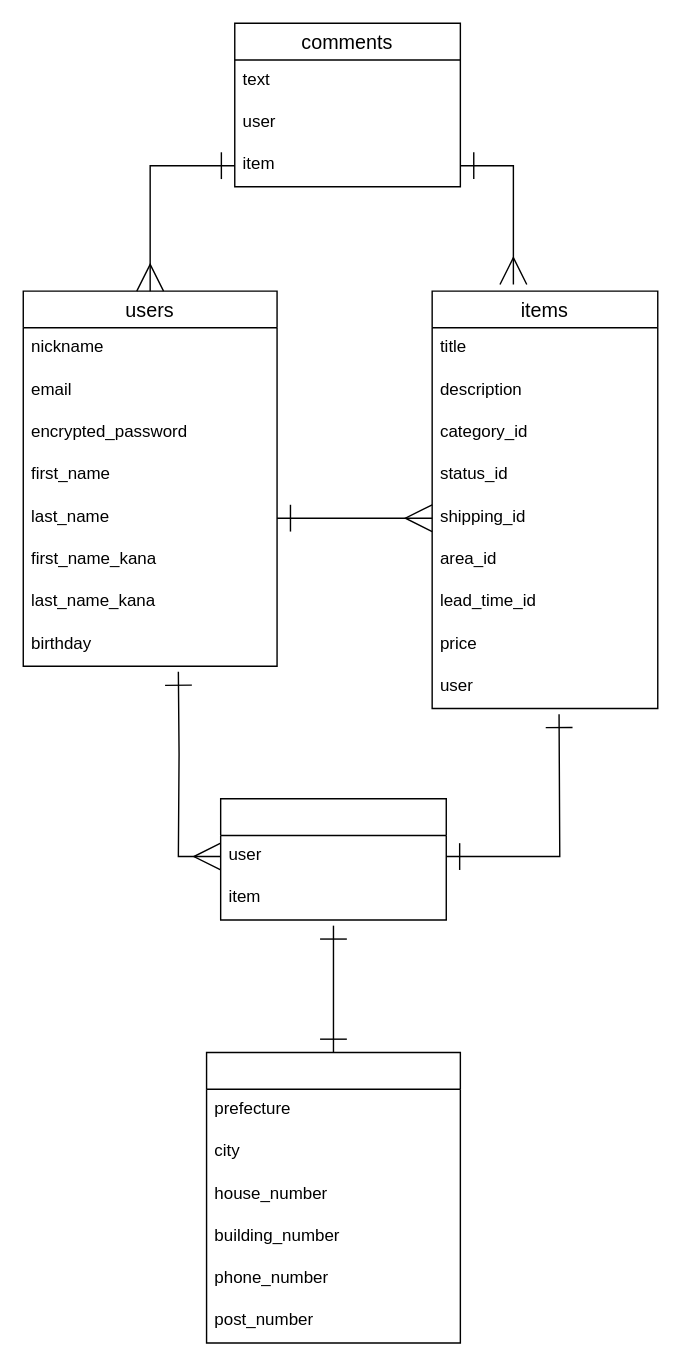
Some shapes in this 681 by 1366 pixel diagram are drawn without their labels. Here are the shapes that lost their labels. From the top down, the box of each, then its label:
(219, 797, 446, 920): buyers
(205, 1051, 460, 1343): addressse
